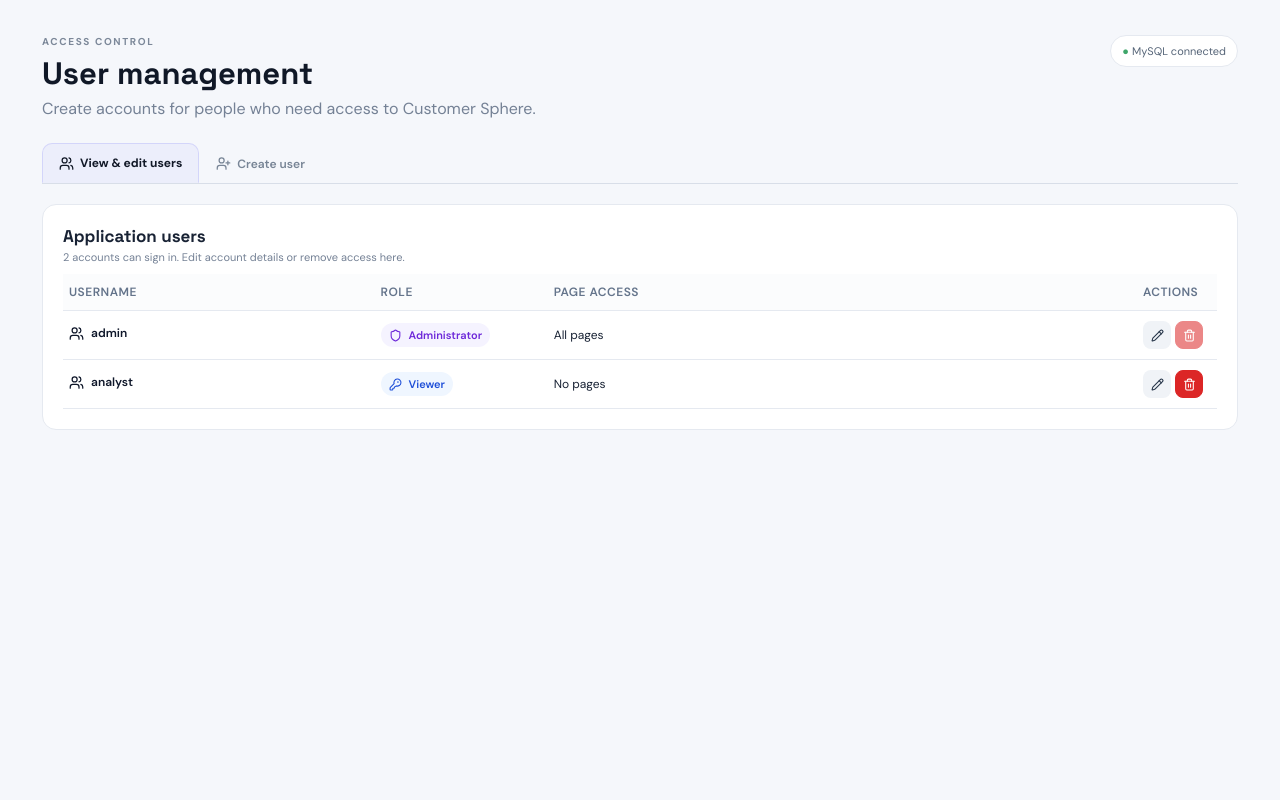
it: User management page › requires confirmation before deleting an account and refreshes the user list
This screenshot has width=1280, height=800.
expect the text "analyst" is shown: met, box [69,374,133,390]
What coordinates should you click on to do the following:
click the button named "Delete analyst"
I would click on:
 (1189, 384)
Its box is [1175,370,1203,398].
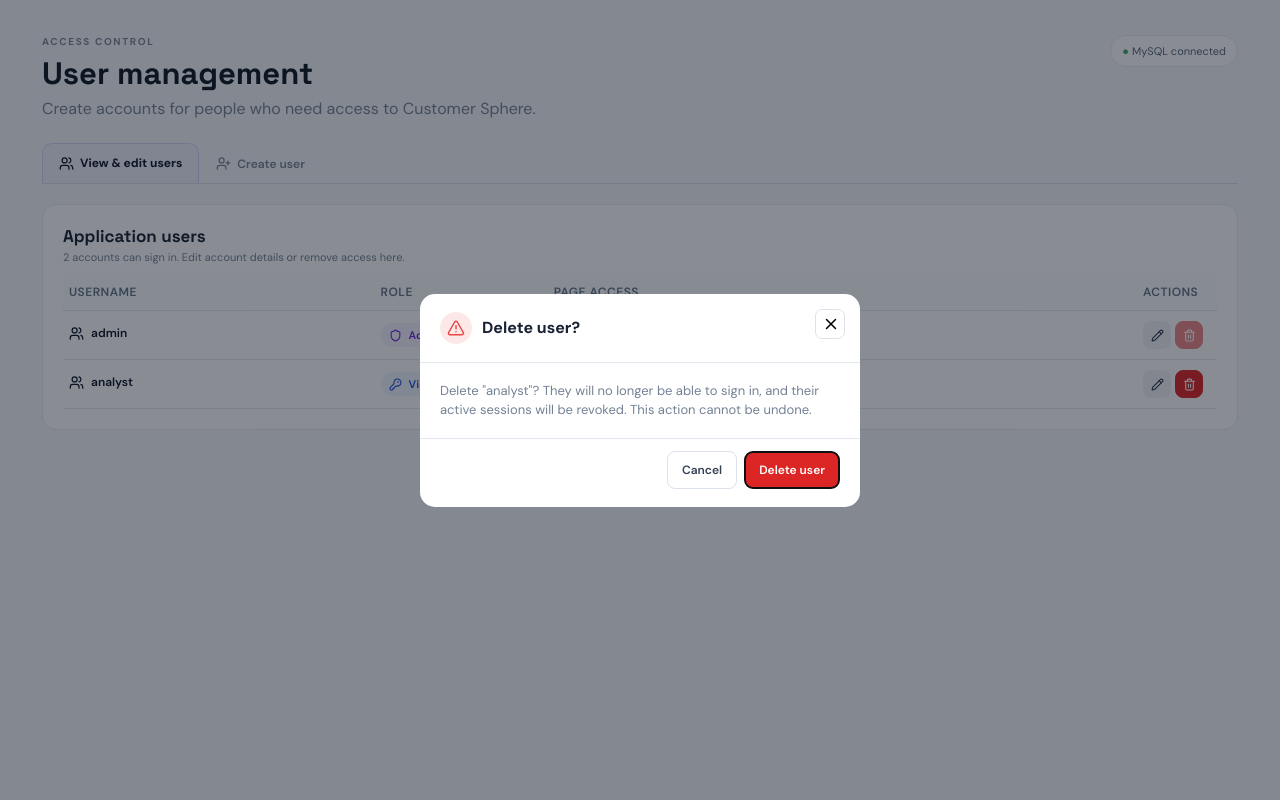
expect the dialog "Delete user?" is shown: met
expect the text "active sessions will be revoked" is shown: met, box [440,382,819,418]
What coordinates should you click on to do the following:
click the button "Delete user"
I would click on:
 (792, 470)
Its box is [744,450,840,488].
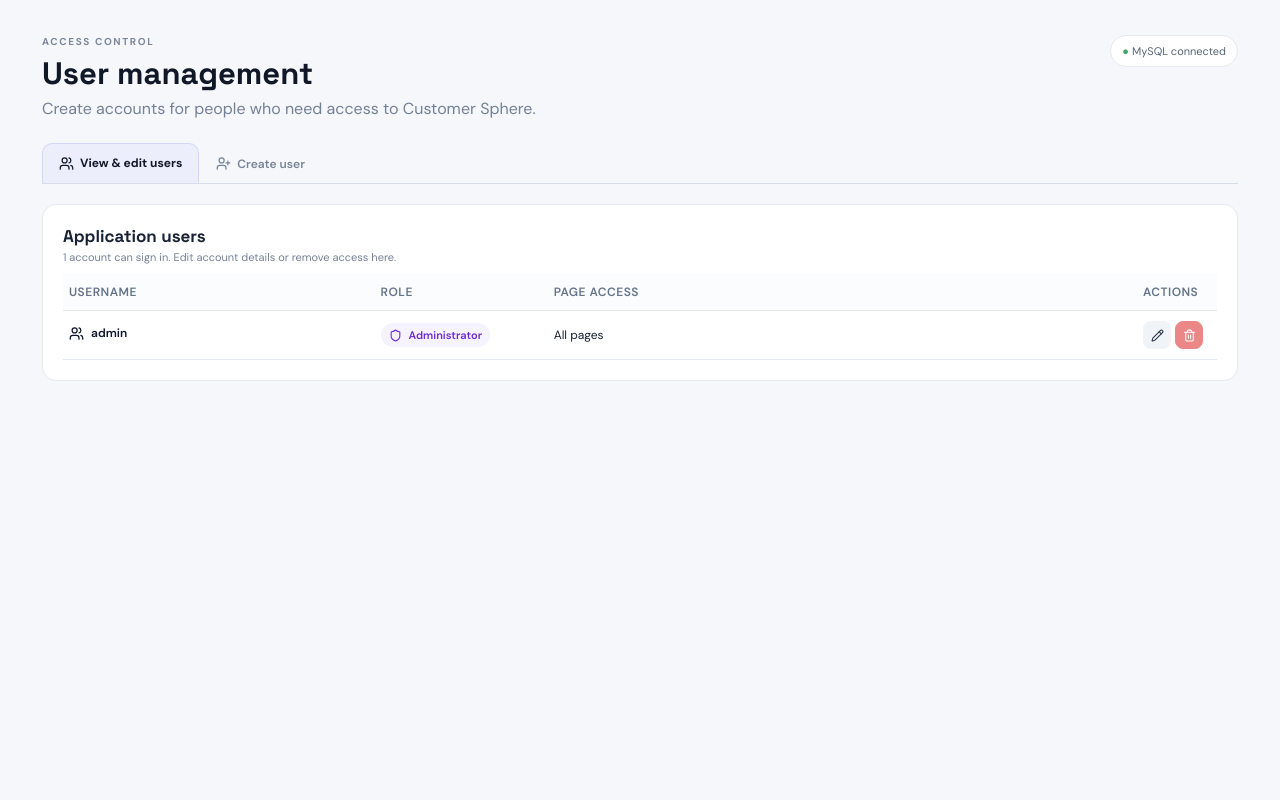
expect the text "analyst" is gone: met
